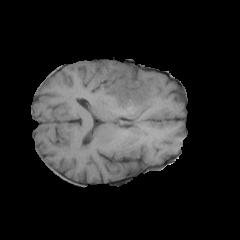glioma: (104, 66, 163, 115)
